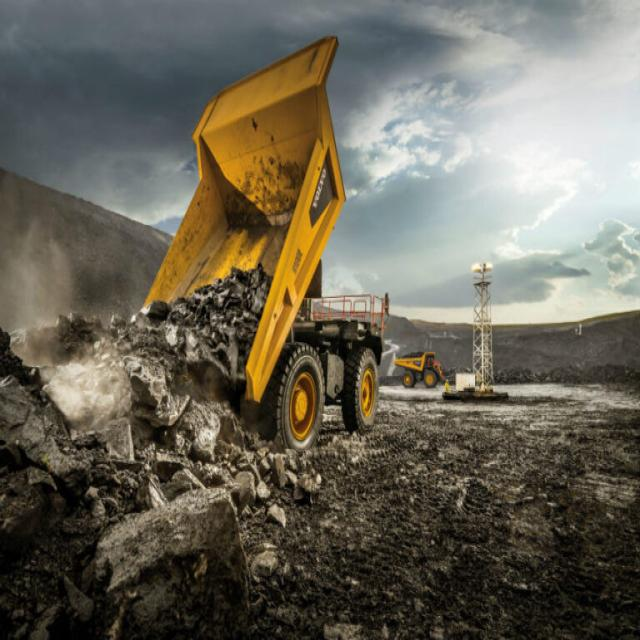dump_truck: (163, 36, 395, 452), (393, 341, 454, 394)
